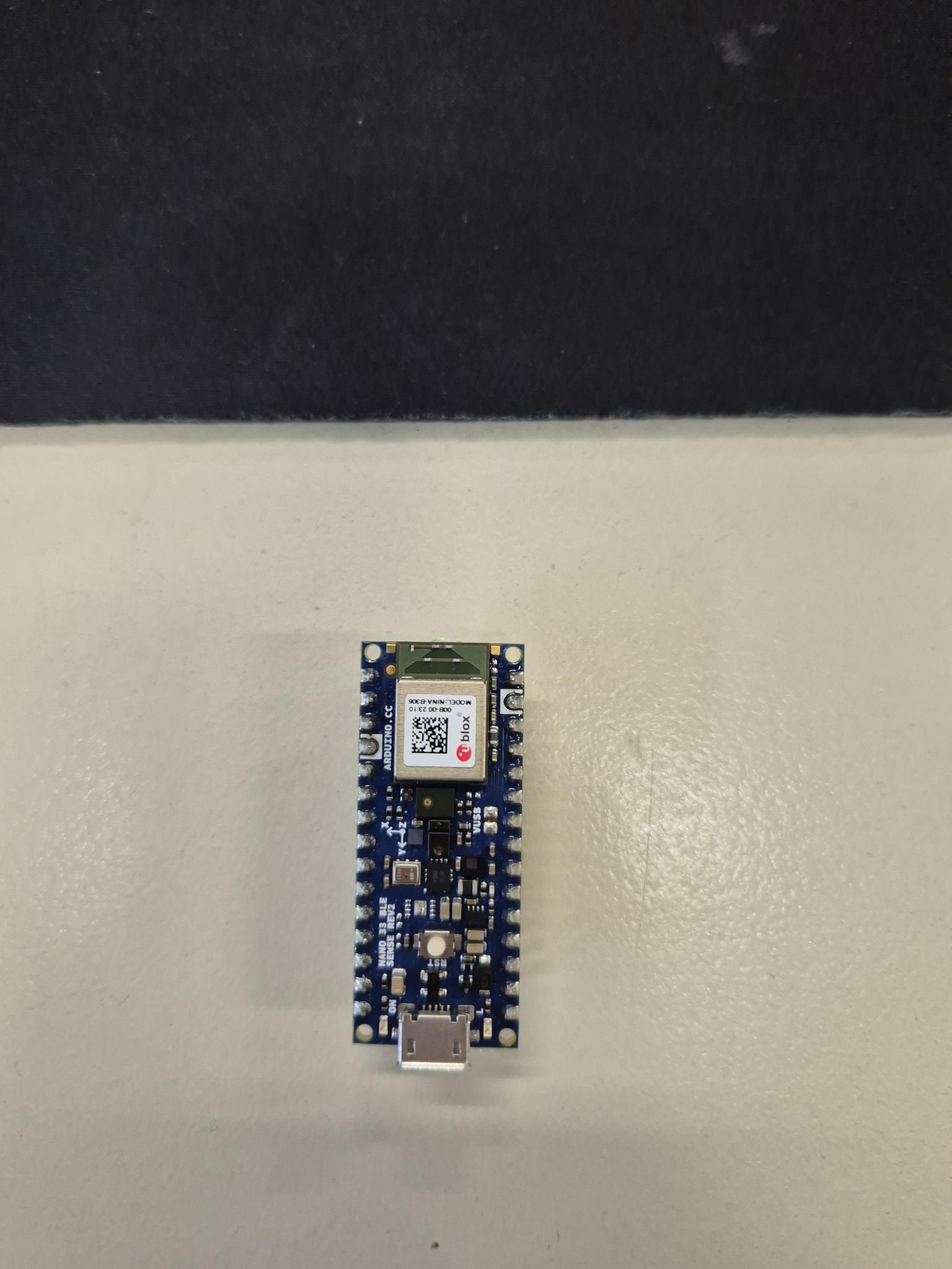arduino-nano-ble-sense: (354, 641, 524, 1069)
